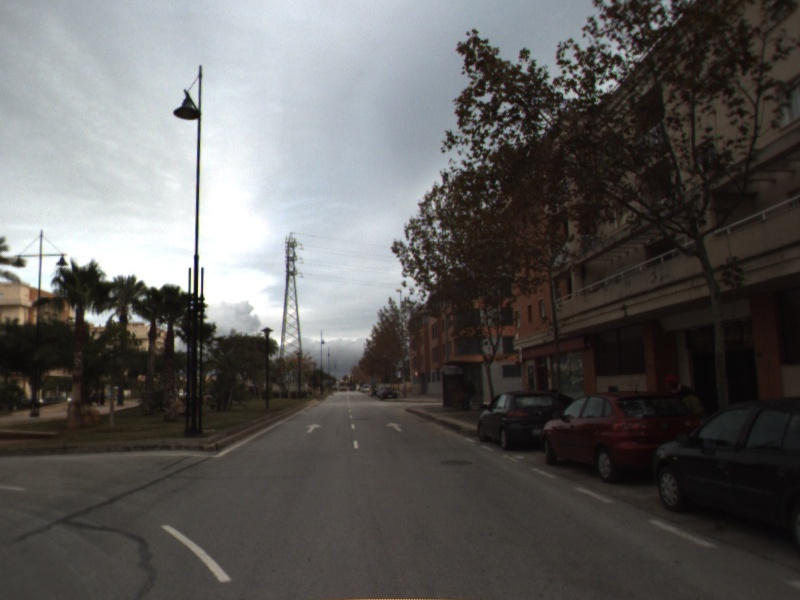STRAIGHT: (384, 420, 405, 433), (304, 421, 323, 435)
